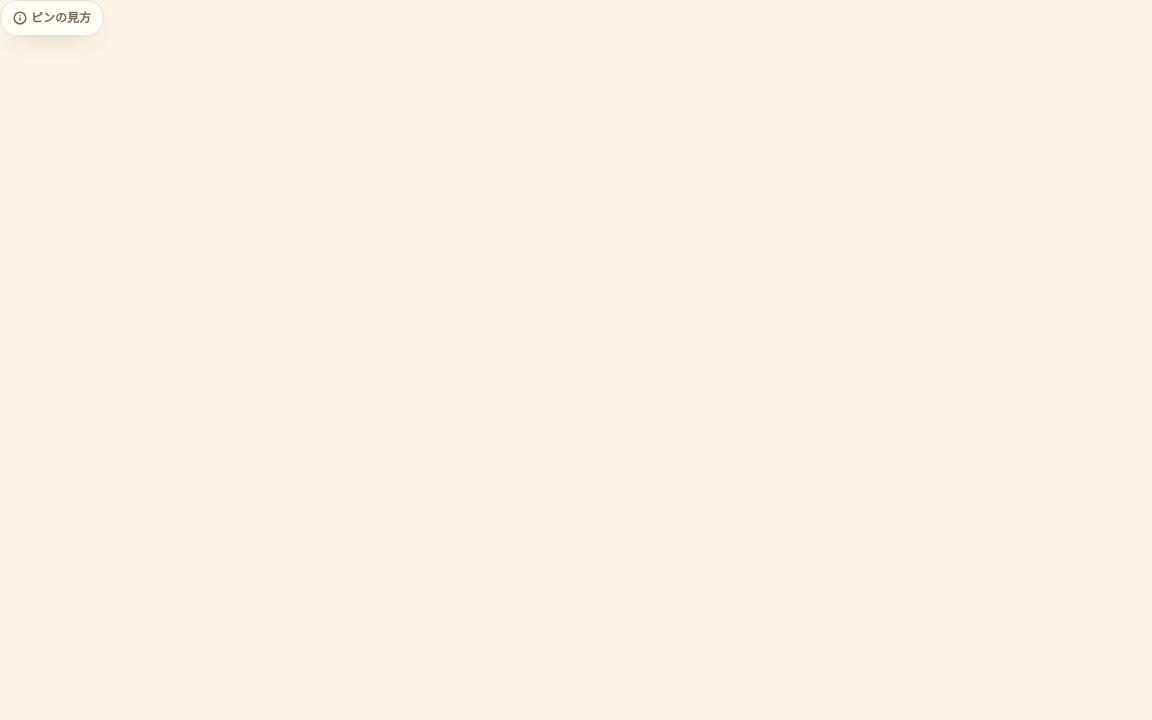
it: MapLegendButton › 押すまでは凡例を出さず、押すと開く
Step 1. Click the button with aria-label "ピンの見方を表示" → [52, 18], box x1=0 y1=0 x2=104 y2=36
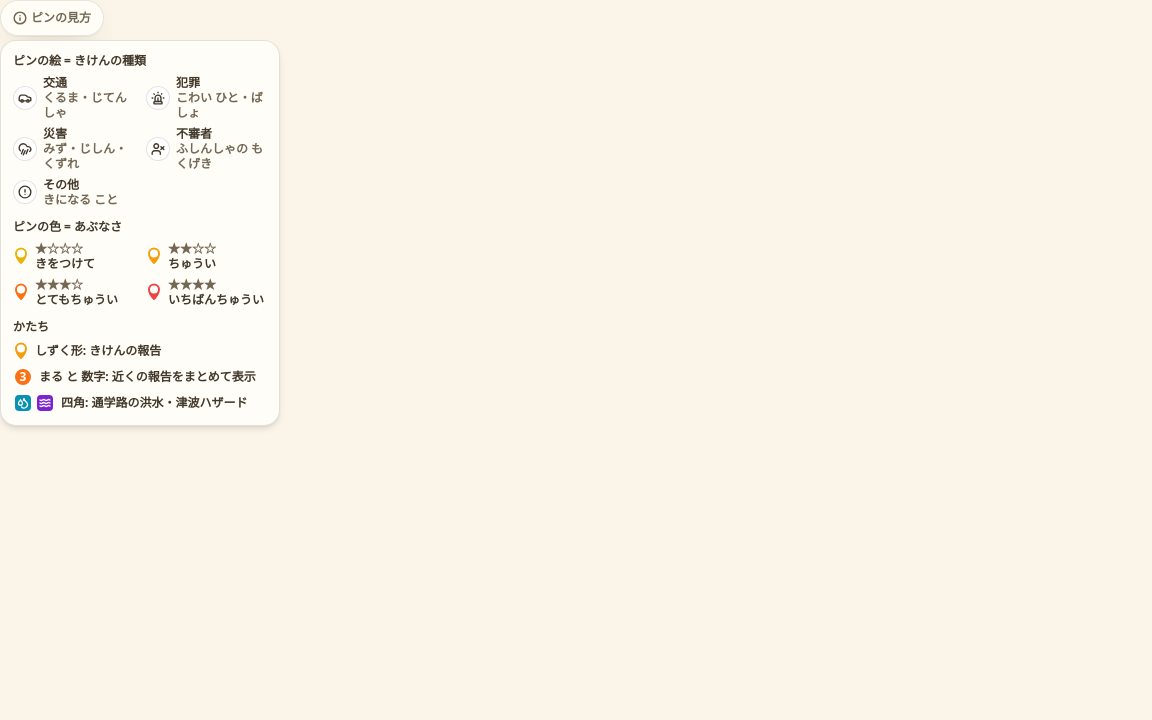
Expected: the element with test id "map-legend-details" is shown, x1=13 y1=53 x2=267 y2=413
